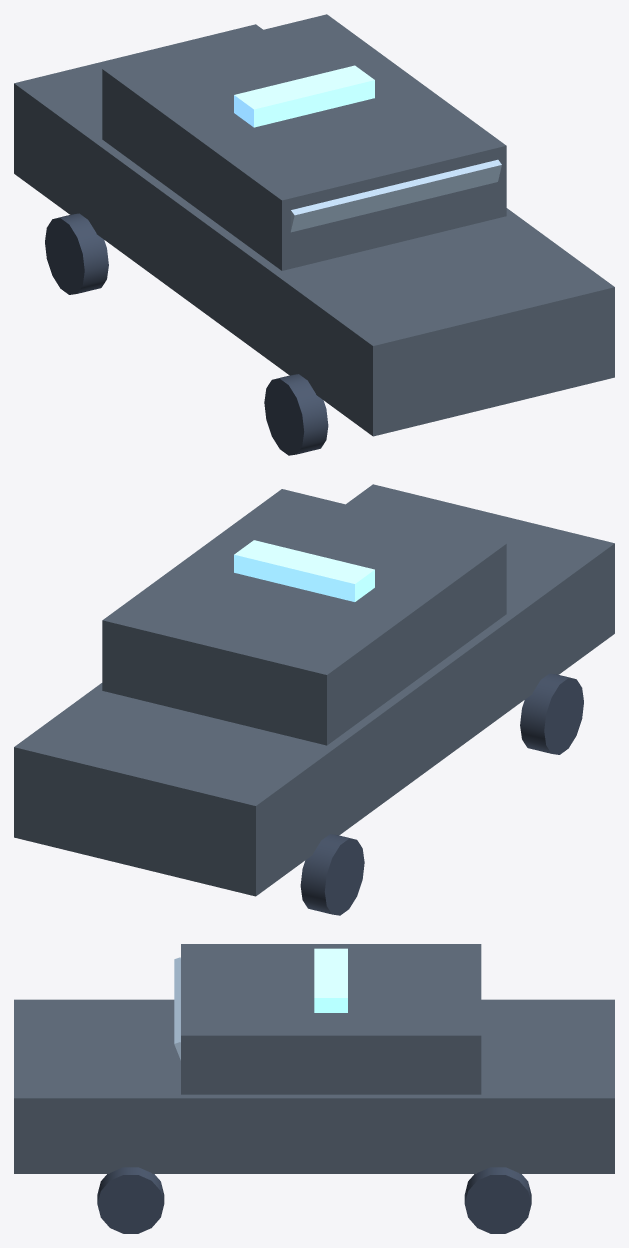
Rendered from sedan_patrol.glb.
3 views of the same model, one above another, from view 1: azimuth 30°, elevation 25°; view 2: azimuth 150°, elevation 25°; view 3: azimuth 270°, elevation 25° (orthographic). The views are drawn at different scales.
Size of the model in its own units: 0.81 by 0.6725 by 1.8.
